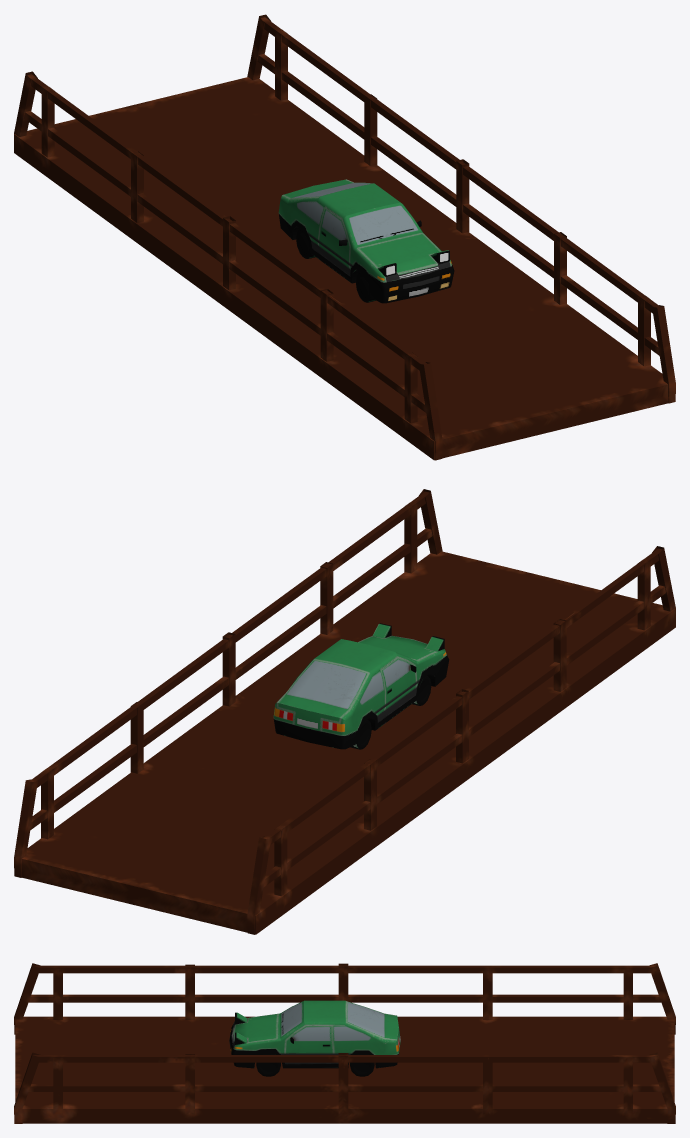
The model's file is iron.fbx.
3 views of the same model, one above another, from view 1: azimuth 30°, elevation 25°; view 2: azimuth 150°, elevation 25°; view 3: azimuth 270°, elevation 25° (orthographic). The views are drawn at different scales.
Visible parts, largest first — view 1: bridge1, car; view 2: bridge1, car; view 3: bridge1, car.
Part boxes in pixels (bbox=[...]): bridge1: bbox=[14, 14, 675, 460]; car: bbox=[278, 179, 454, 303]; bridge1: bbox=[14, 489, 675, 934]; car: bbox=[273, 623, 449, 749]; bridge1: bbox=[14, 963, 675, 1123]; car: bbox=[229, 1000, 400, 1076].
Size of the model in its own units: 589 by 204 by 1781.
2 materials, 2 textured.
